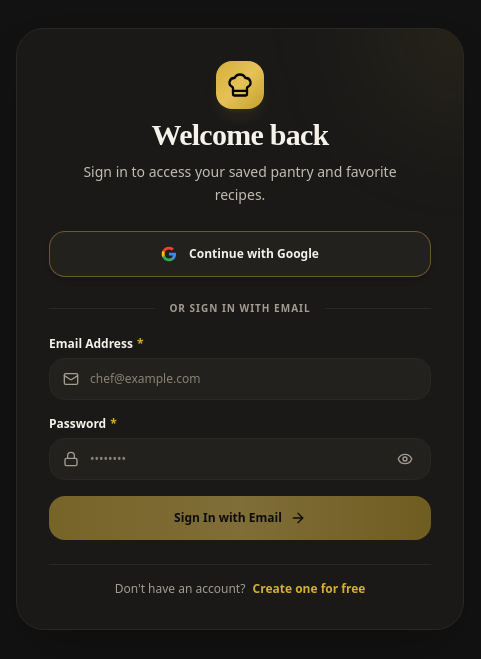
Test: SignInPage Component - Modern Authentication Flow › shows inline validation error on invalid email on blur
Type "invalid-email" into the field with placeholder "chef@example.com".
click(240, 379); type("invalid-email")  # box [49,358,431,400]
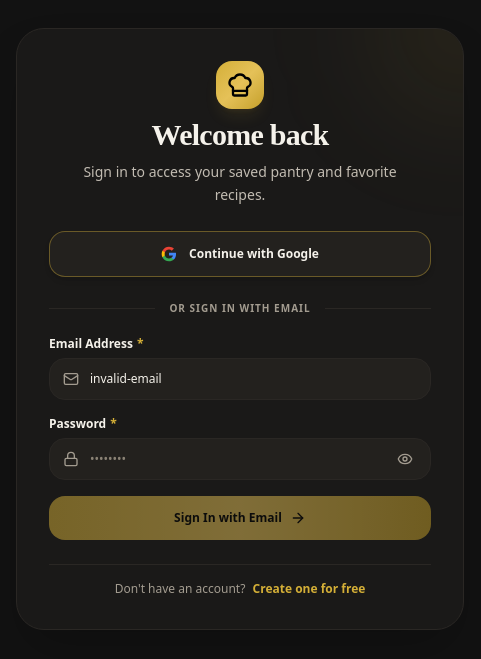
Leave the field with placeholder "chef@example.com", box [49,358,431,400]
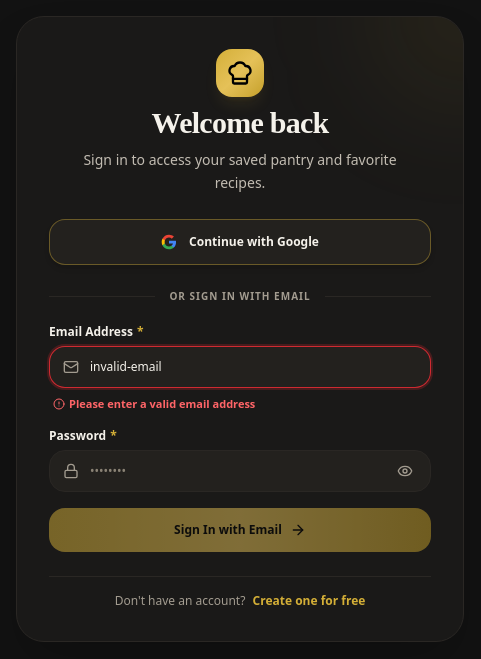
Check: the text "Please enter a valid email address" is shown, box [69,396,255,412]
